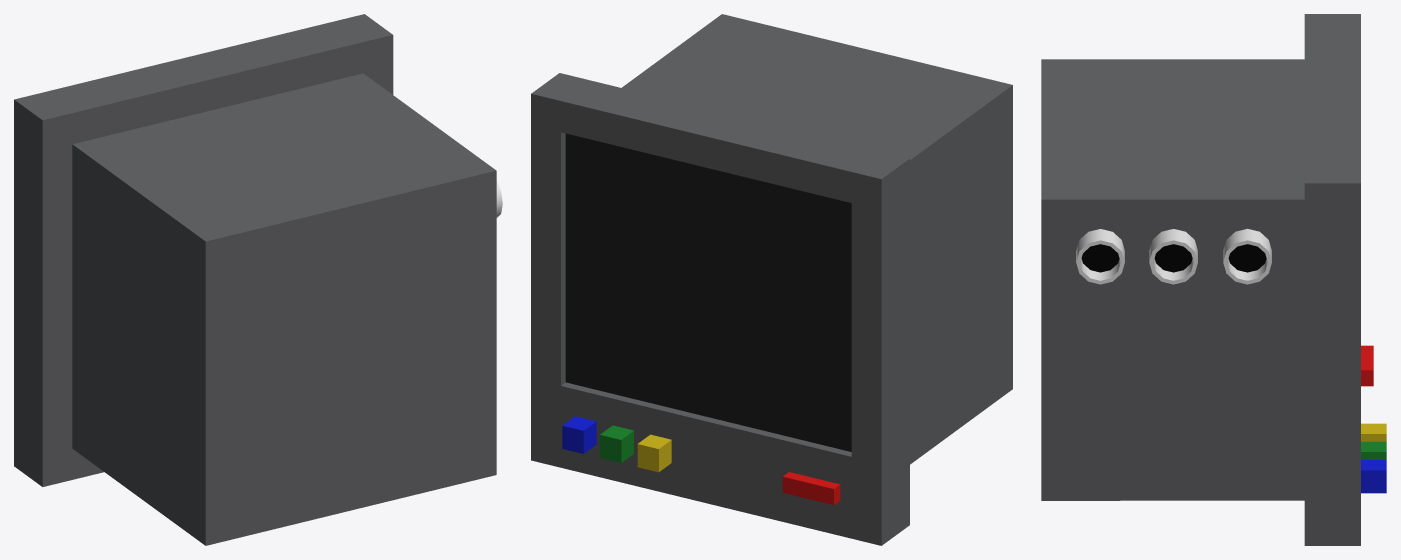
The model's file is GraphReg.glb.
3 views of the same model, side by side, from view 1: azimuth 30°, elevation 25°; view 2: azimuth 150°, elevation 25°; view 3: azimuth 270°, elevation 25° (orthographic).
Parts seen in each view (by area): view 1: GraphRegist; view 2: GraphRegist; view 3: GraphRegist.
Boxes of the visible parts, x1,y1,x2,y2 form: GraphRegist: [14, 14, 502, 545]; GraphRegist: [531, 14, 1012, 545]; GraphRegist: [1041, 14, 1386, 545].
Bounding box in the file's own units: 0.839 × 0.839 × 0.7231.
Materials: 1 (1 with a texture image).
